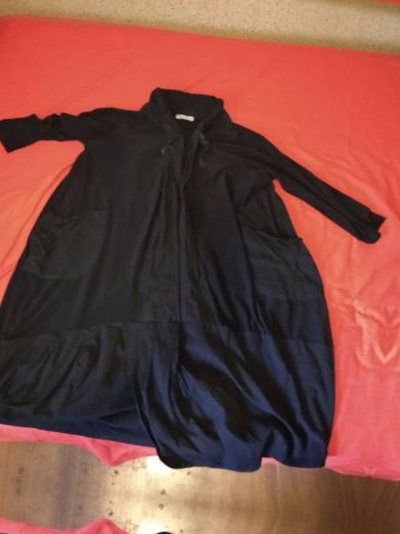Dress: (0, 59, 400, 483), (0, 513, 342, 534), (385, 115, 400, 534)
